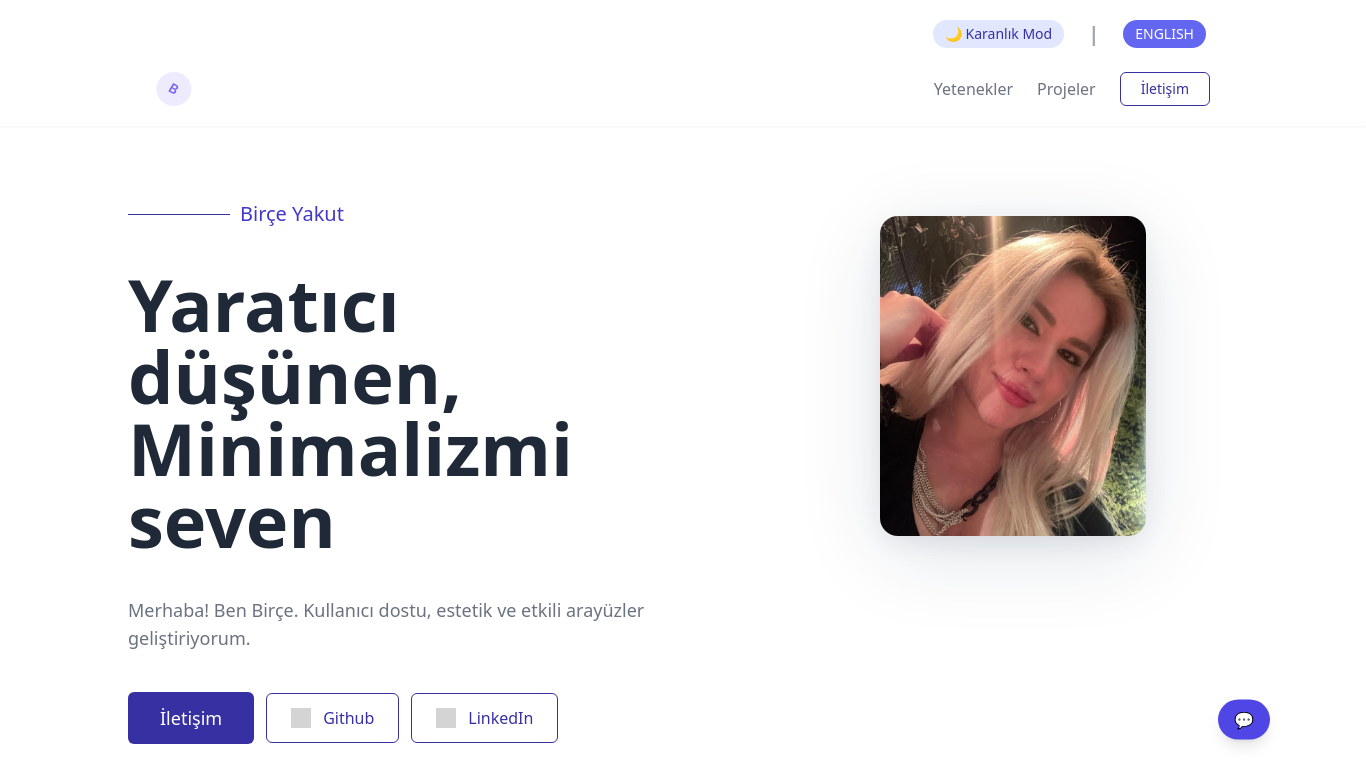
Test: Language Toggle Test › should switch languages when the button is clicked
Expected: the button "Yetenekler" is shown, [934, 77, 1013, 101]
# Butona tıkla İngilizce olsun
Click the button "ENGLISH": coordinates (1165, 34) [1123, 20, 1206, 48]
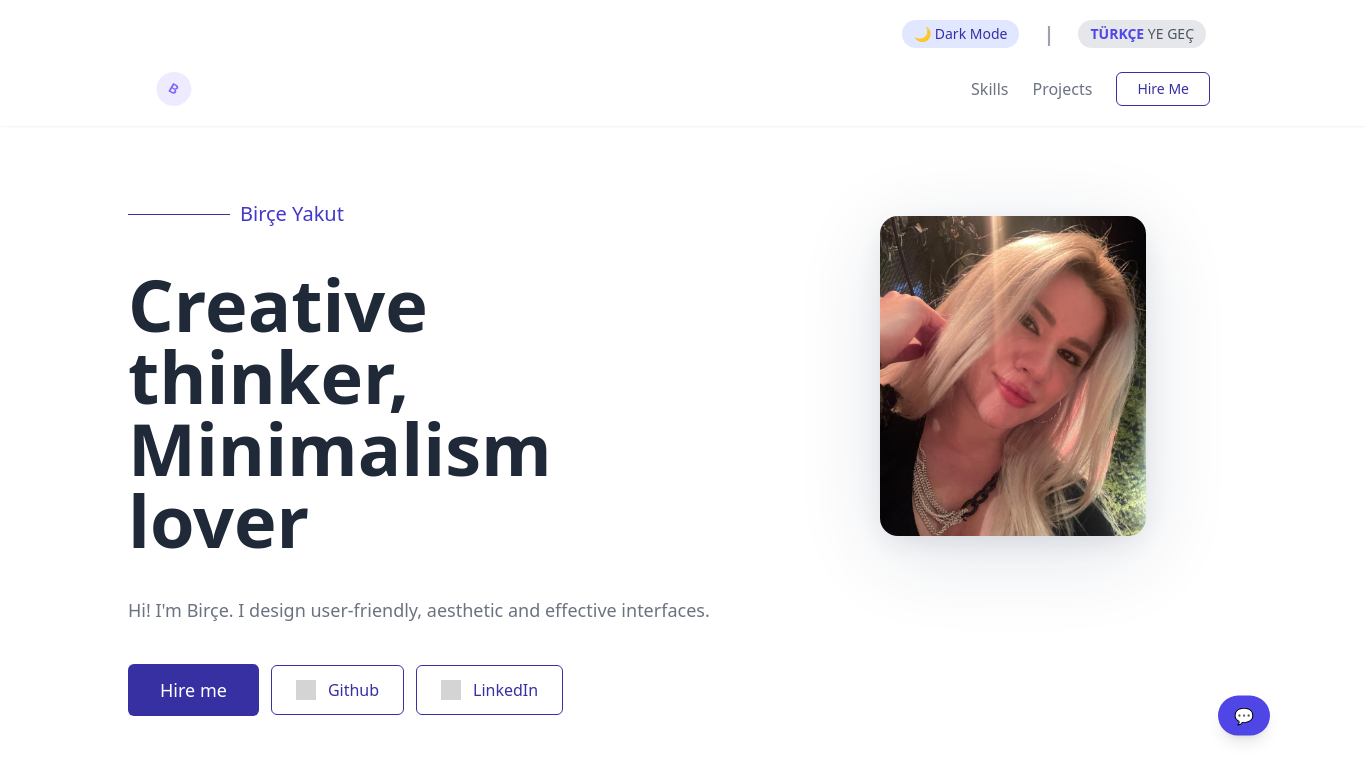
Expected: the button "Skills" is shown, [971, 77, 1008, 101]
Expected: the button "TÜRKÇE YE GEÇ" is shown
# Tekrar tıkla tekrar Türkçe
Click the button "TÜRKÇE YE GEÇ": coordinates (1143, 34) [1079, 20, 1207, 48]
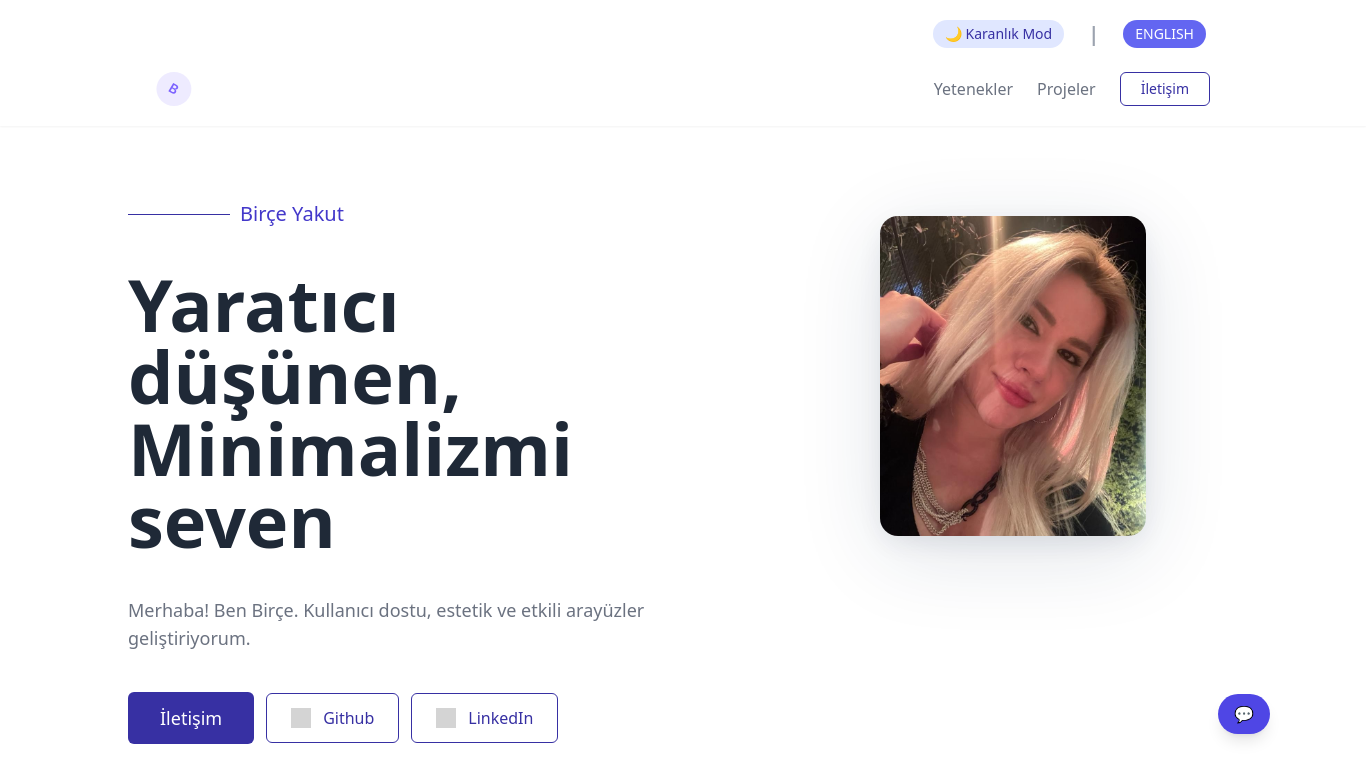
Expected: the button "Yetenekler" is shown, [934, 77, 1013, 101]
Expected: the button "ENGLISH" is shown, [1123, 20, 1206, 48]
